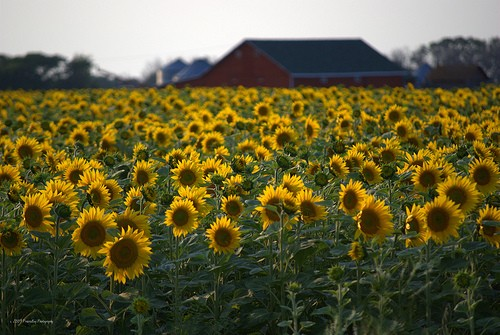flower: (97, 225, 153, 284), (411, 194, 466, 247), (70, 205, 119, 260), (351, 194, 396, 247), (19, 190, 56, 243), (436, 174, 482, 214), (203, 216, 243, 256), (164, 196, 199, 238), (166, 159, 207, 194), (466, 157, 500, 199), (338, 178, 368, 217), (128, 161, 164, 193), (12, 133, 44, 168), (411, 162, 444, 194)
